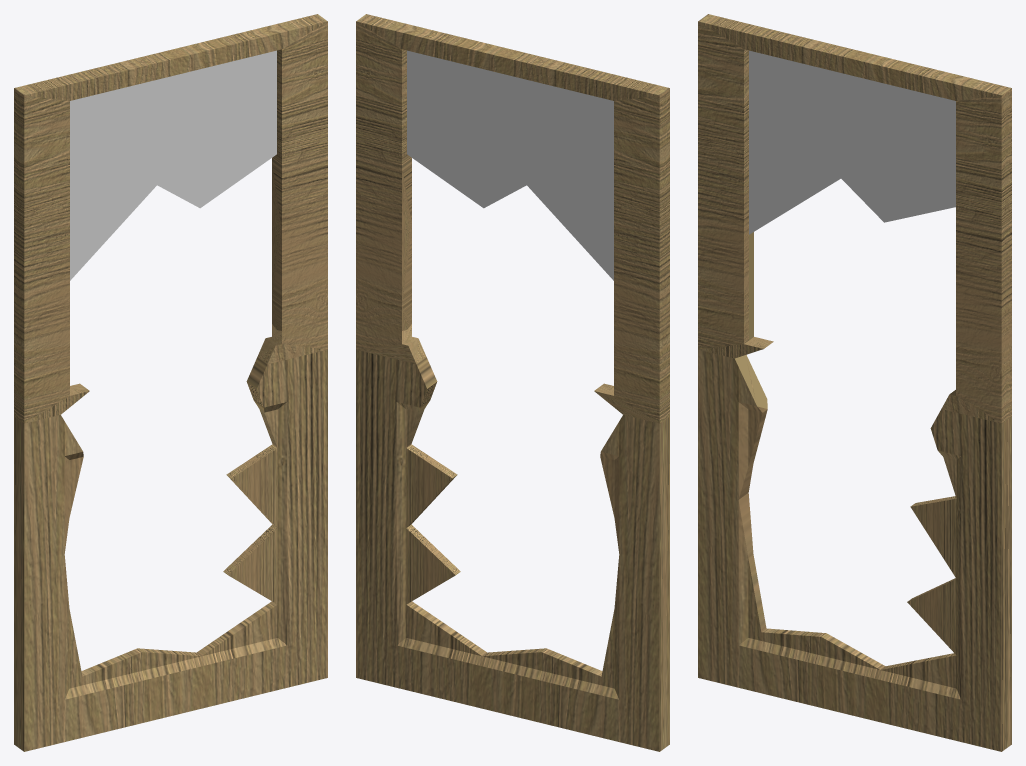
Rendered from door.fbx.
3 renders of one model, left to right at view 1: azimuth 30°, elevation 25°; view 2: azimuth 150°, elevation 25°; view 3: azimuth 330°, elevation 25°, orthographic.
Parts seen in each view (by area): view 1: Door; view 2: Door; view 3: Door.
Part boxes in pixels (x1,y1,x2,y2): Door: (14, 14, 327, 751); Door: (356, 14, 669, 751); Door: (698, 14, 1011, 751).
Size of the model in its own units: 115 by 237 by 6.64.
2 materials, 1 textured.
